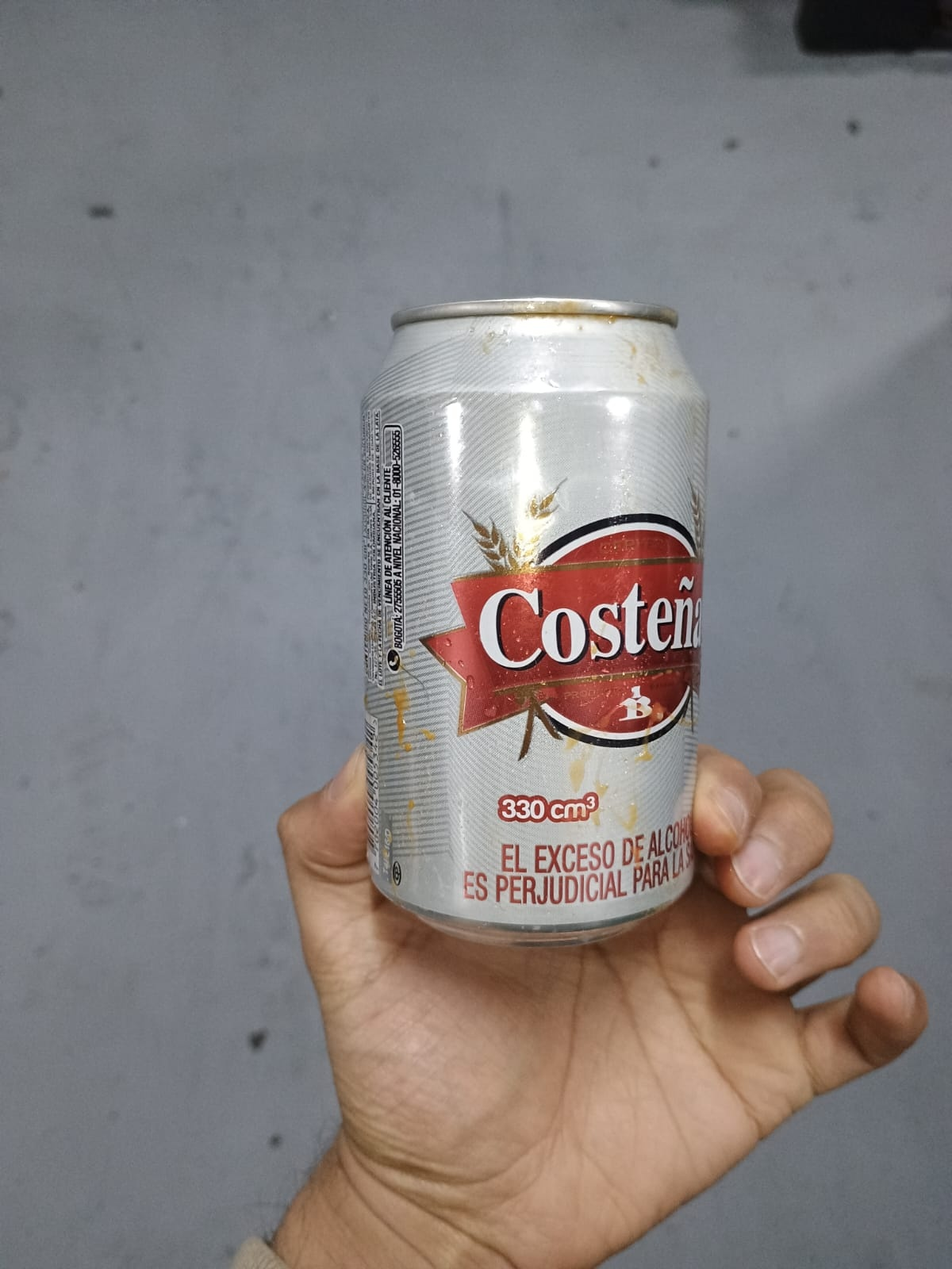Metal: (363, 297, 706, 945)
